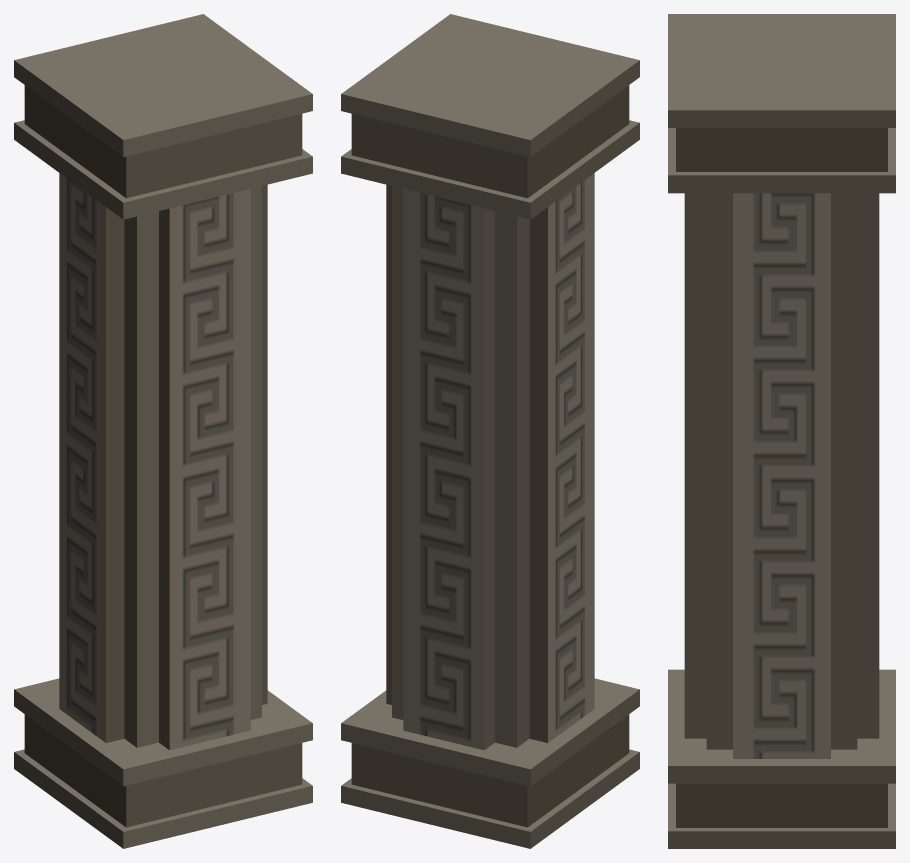
File: SF_Bld_Ruins_Pillar_01.fbx
3 renders of one model, left to right at view 1: azimuth 30°, elevation 25°; view 2: azimuth 150°, elevation 25°; view 3: azimuth 270°, elevation 25°, orthographic. The views are drawn at different scales.
Visible parts, largest first — view 1: SF_Bld_Ruins_Pillar_01; view 2: SF_Bld_Ruins_Pillar_01; view 3: SF_Bld_Ruins_Pillar_01.
Boxes of the visible parts, bbox=[...] form: SF_Bld_Ruins_Pillar_01: bbox=[14, 14, 312, 848]; SF_Bld_Ruins_Pillar_01: bbox=[341, 14, 639, 848]; SF_Bld_Ruins_Pillar_01: bbox=[668, 14, 895, 848].
Bounding box in the file's own units: 2.44 × 8.71 × 2.44.
